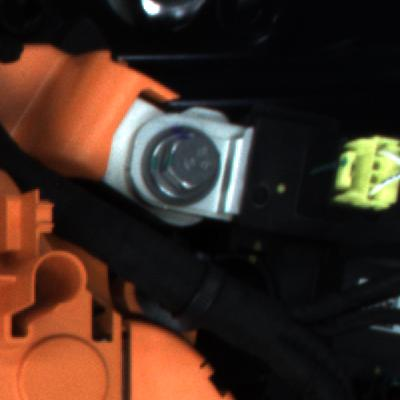nut_b: (135, 125, 223, 202)
